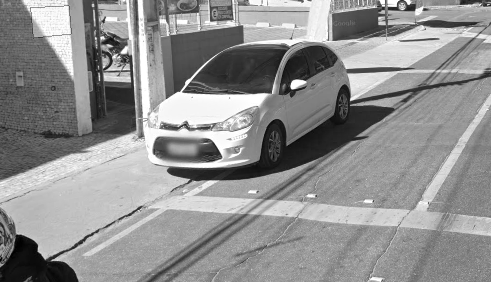car: (141, 29, 364, 179)
